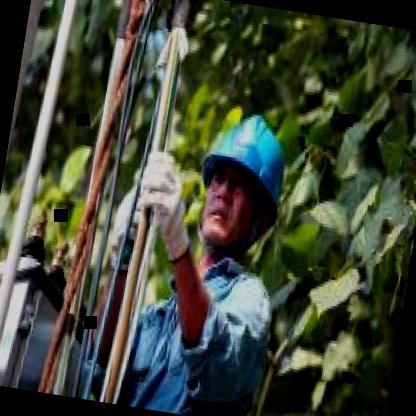helmet: (174, 95, 306, 280)
